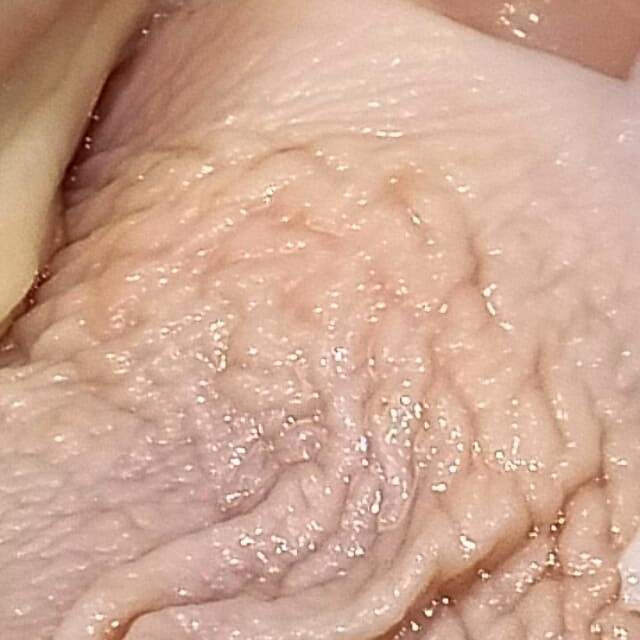chicken: (147, 0, 640, 640), (0, 0, 365, 608)
